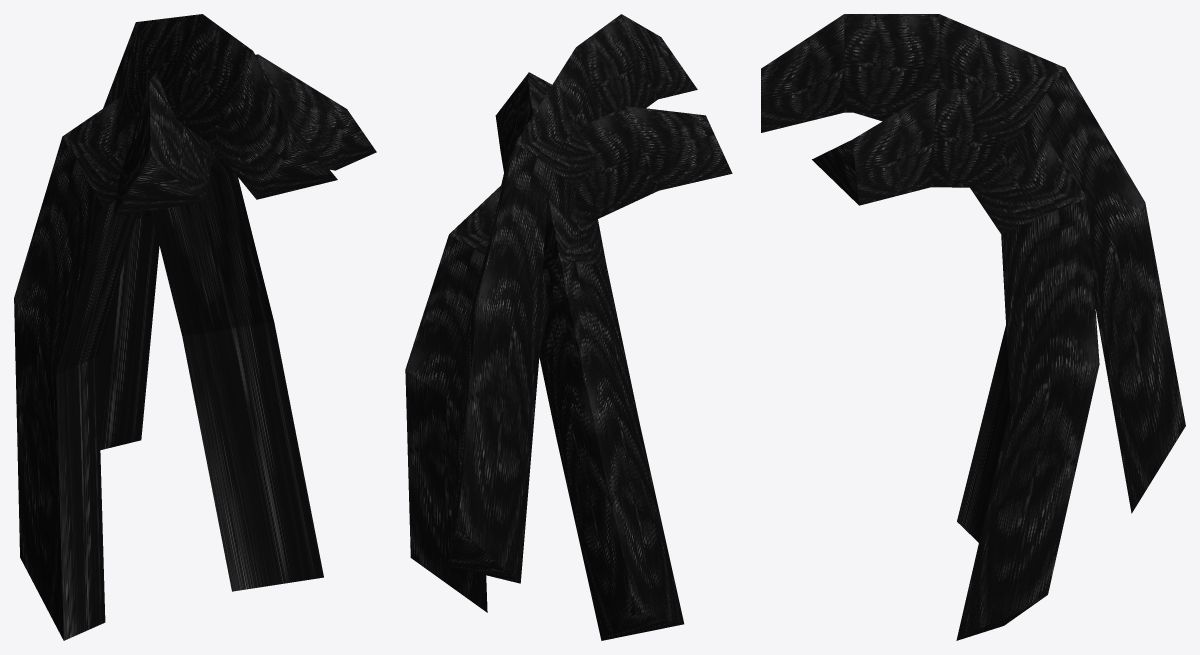
Rendered from hair_sao_female_02.dae.
3 views of the same model, side by side, from view 1: azimuth 30°, elevation 25°; view 2: azimuth 150°, elevation 25°; view 3: azimuth 270°, elevation 25° (orthographic). The views are drawn at different scales.
Parts seen in each view (by area): view 1: a_hair_female_sao_02; view 2: a_hair_female_sao_02; view 3: a_hair_female_sao_02.
Boxes of the visible parts, x1,y1,x2,y2 form: a_hair_female_sao_02: [14, 14, 376, 640]; a_hair_female_sao_02: [405, 14, 732, 640]; a_hair_female_sao_02: [761, 14, 1185, 640].
Bounding box in the file's own units: 0.5081 × 0.7543 × 1.14.
